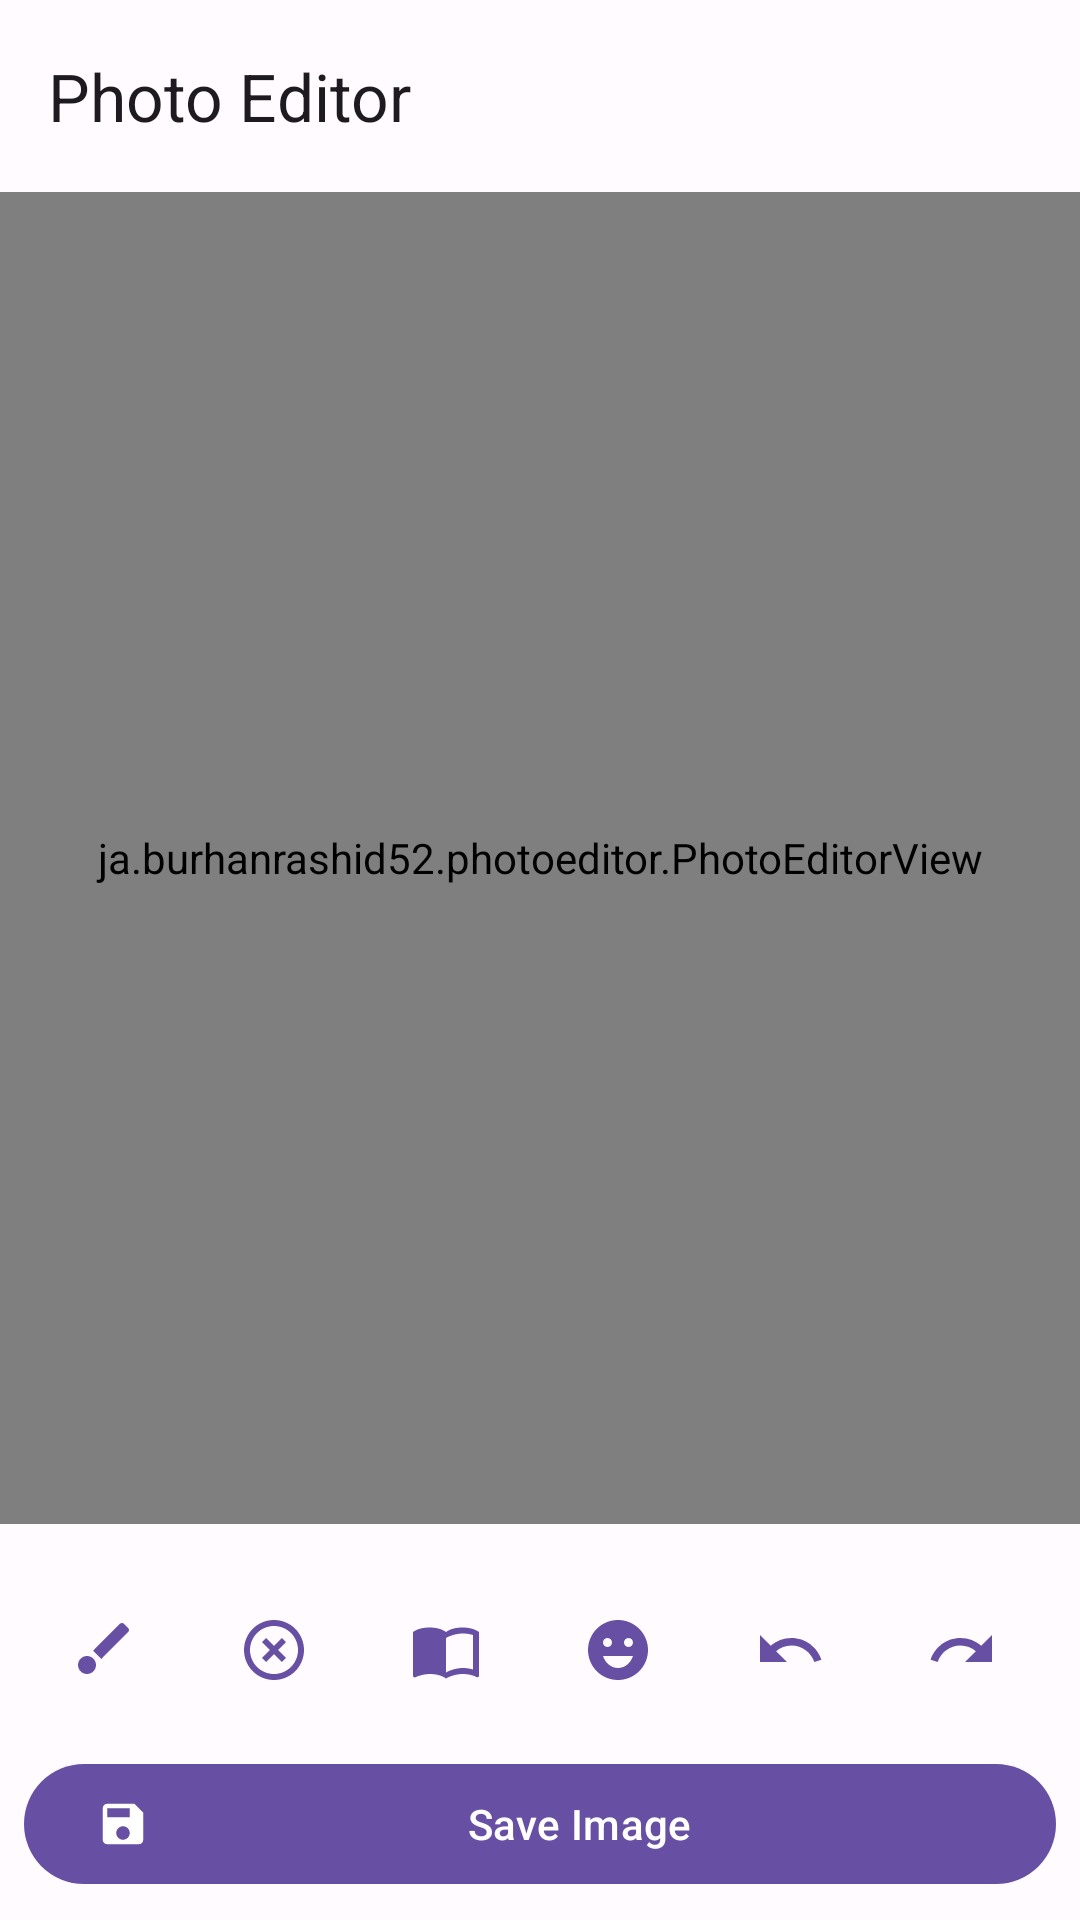

Icons on this 1080 × 1920 Android screen, each with its box as (x1, y1, x2, y2):
draw: (78, 1623, 129, 1674)
redo: (930, 1635, 992, 1662)
sticker: (588, 1620, 648, 1680)
undo: (760, 1635, 822, 1662)
